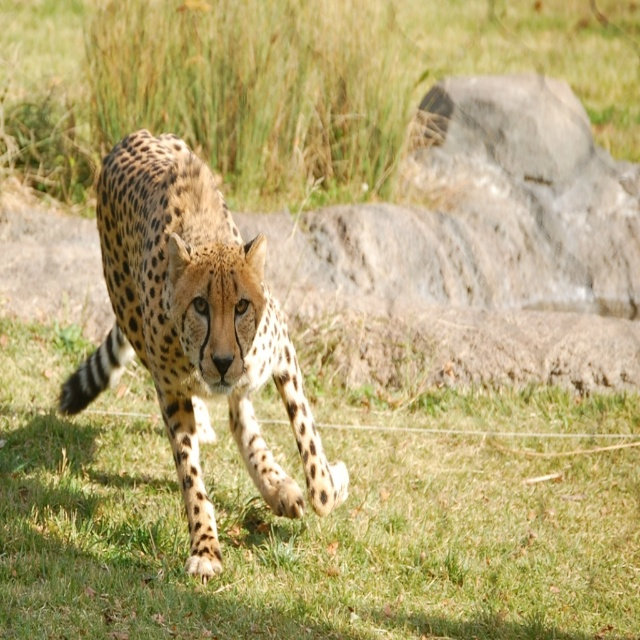Leopard: (53, 128, 349, 582)
